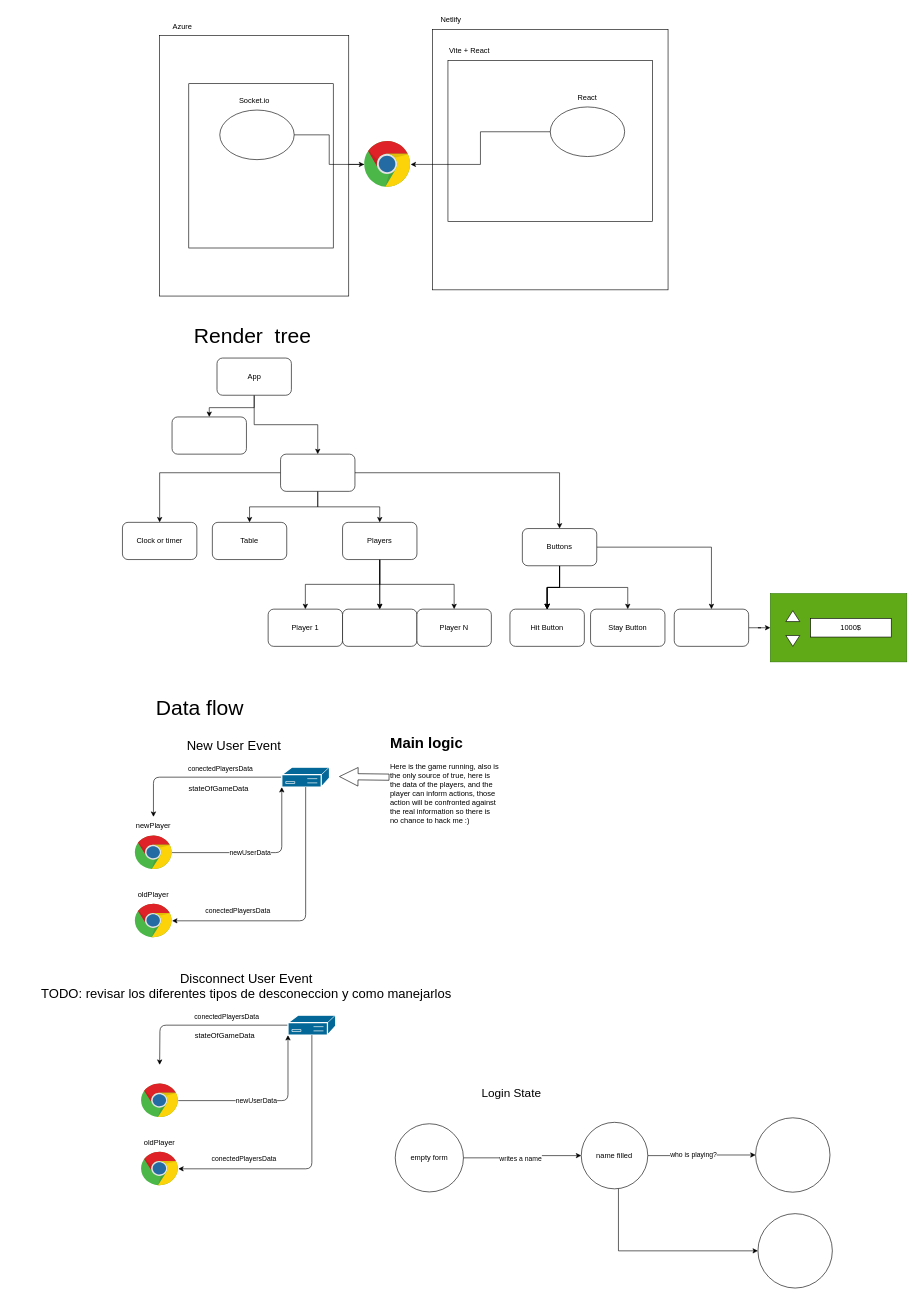
Image size: 918x1299. Some labels were removed from this diagram. Here are the shapes that lost their labels. From the top down, the centre of each, then its label:
At point (208, 435): "Login".
At point (317, 472): "Game".
At point (379, 627): "Player 2".
At point (711, 627): "Bet controller".
At point (792, 1154): "name already in use".
At point (794, 1250): "name avaible".
